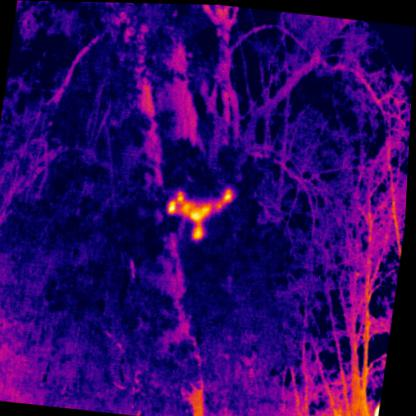drone: (163, 179, 238, 243)
